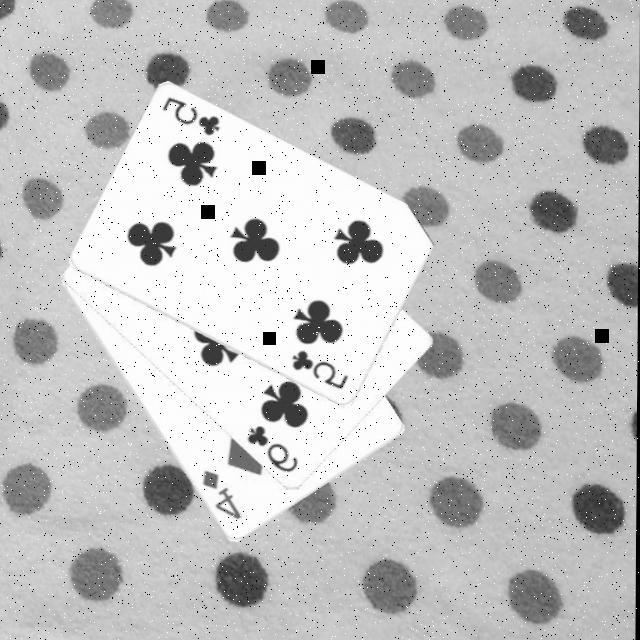4D: (201, 466, 247, 522)
5C: (291, 346, 353, 393), (161, 93, 225, 138)
6C: (245, 422, 303, 476)
